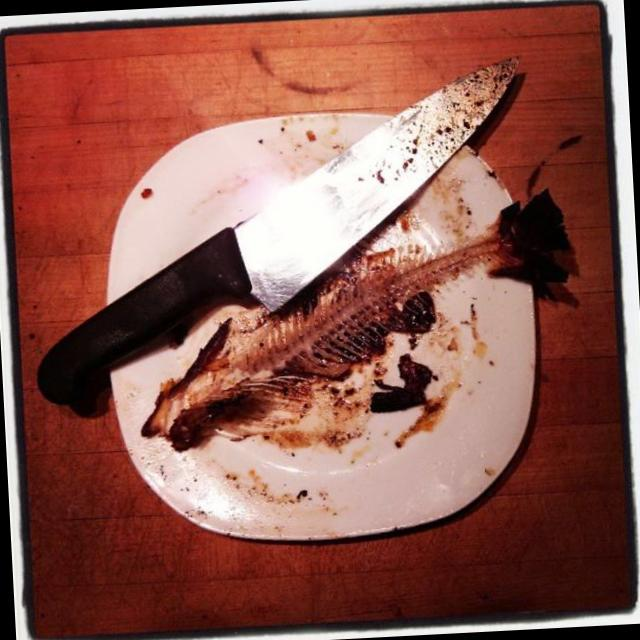Knife: (38, 59, 517, 411)
